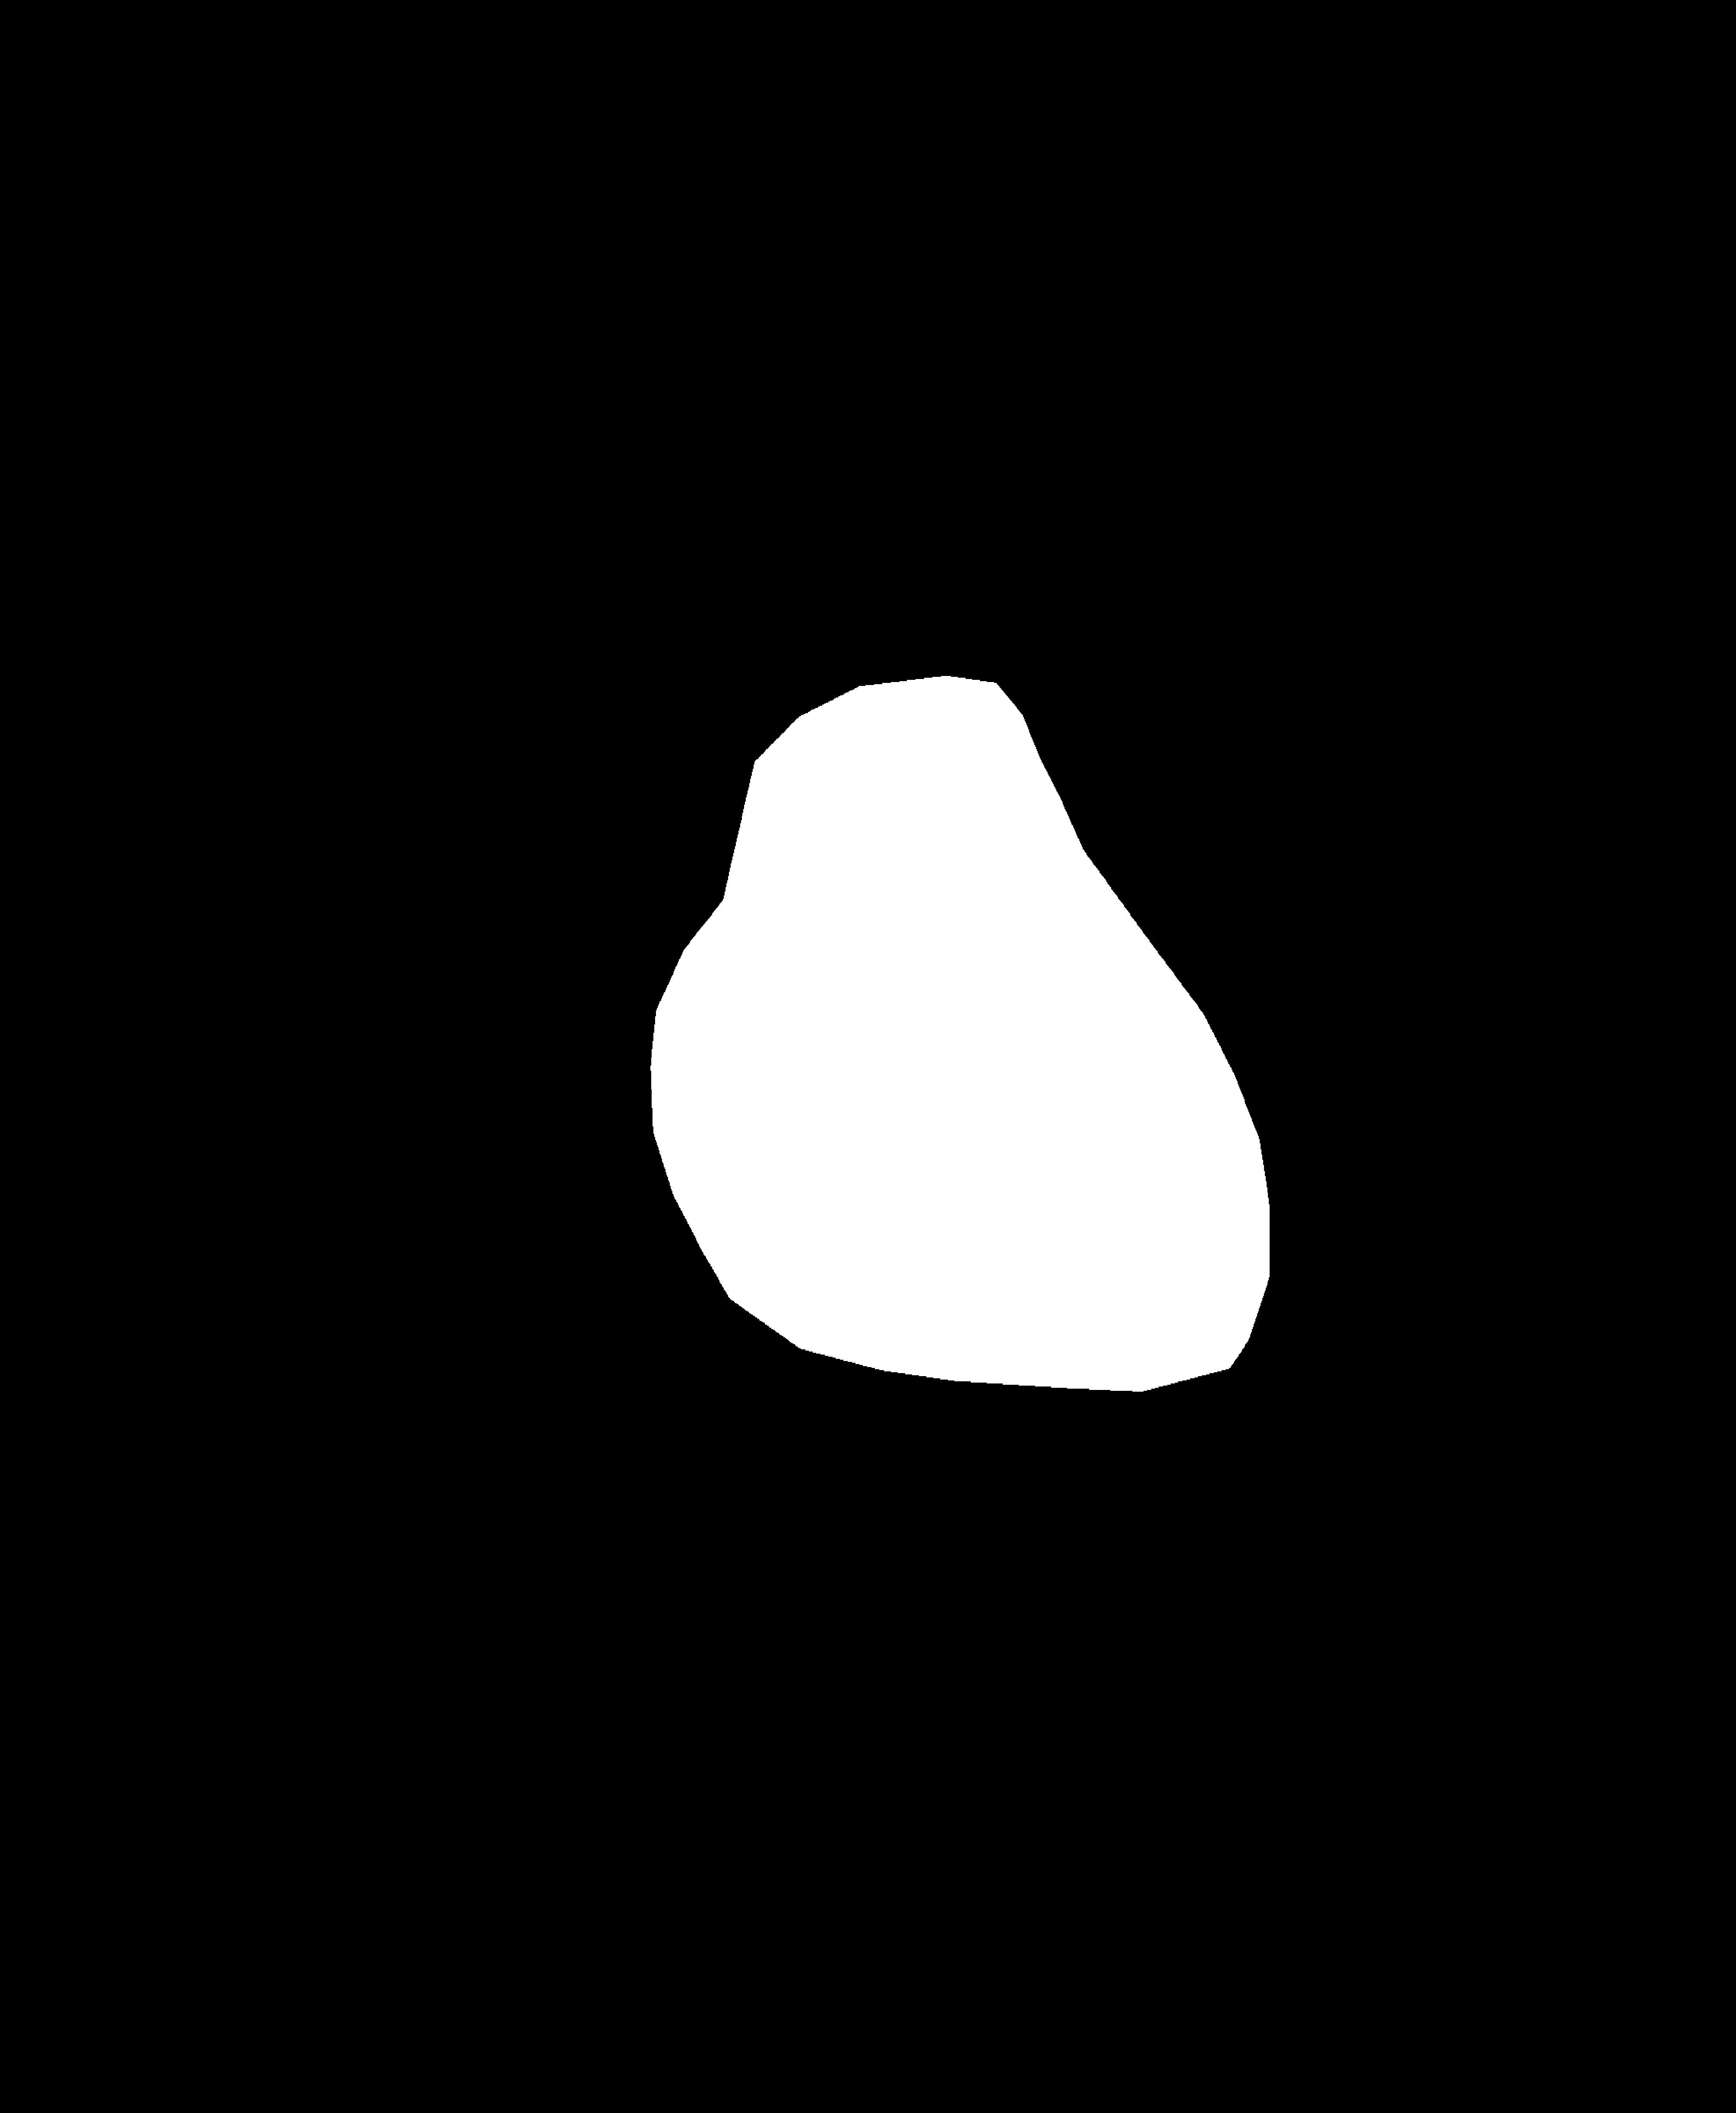heart: (648, 784, 1269, 1364)
left_lung: (191, 161, 829, 1553)
right_lung: (932, 156, 1599, 1555)
